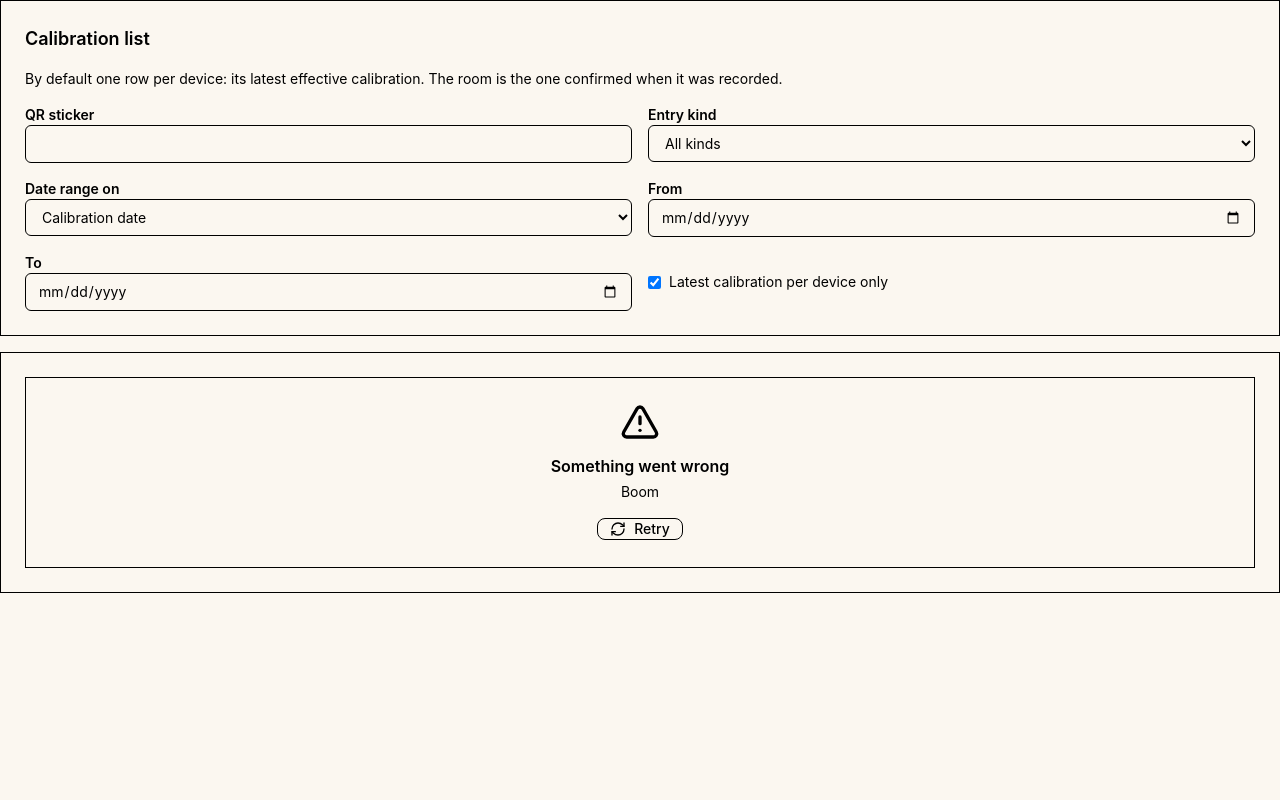
Test: P22-05 — calibration list › a failed read is an error with a retry, never an empty list
Expected: the message shows "Something went wrong", [551,456,729,476]
What coordinates should you click on to do the following:
click the button "Retry"
I would click on:
 (640, 529)
Its box is [597,518,683,540].
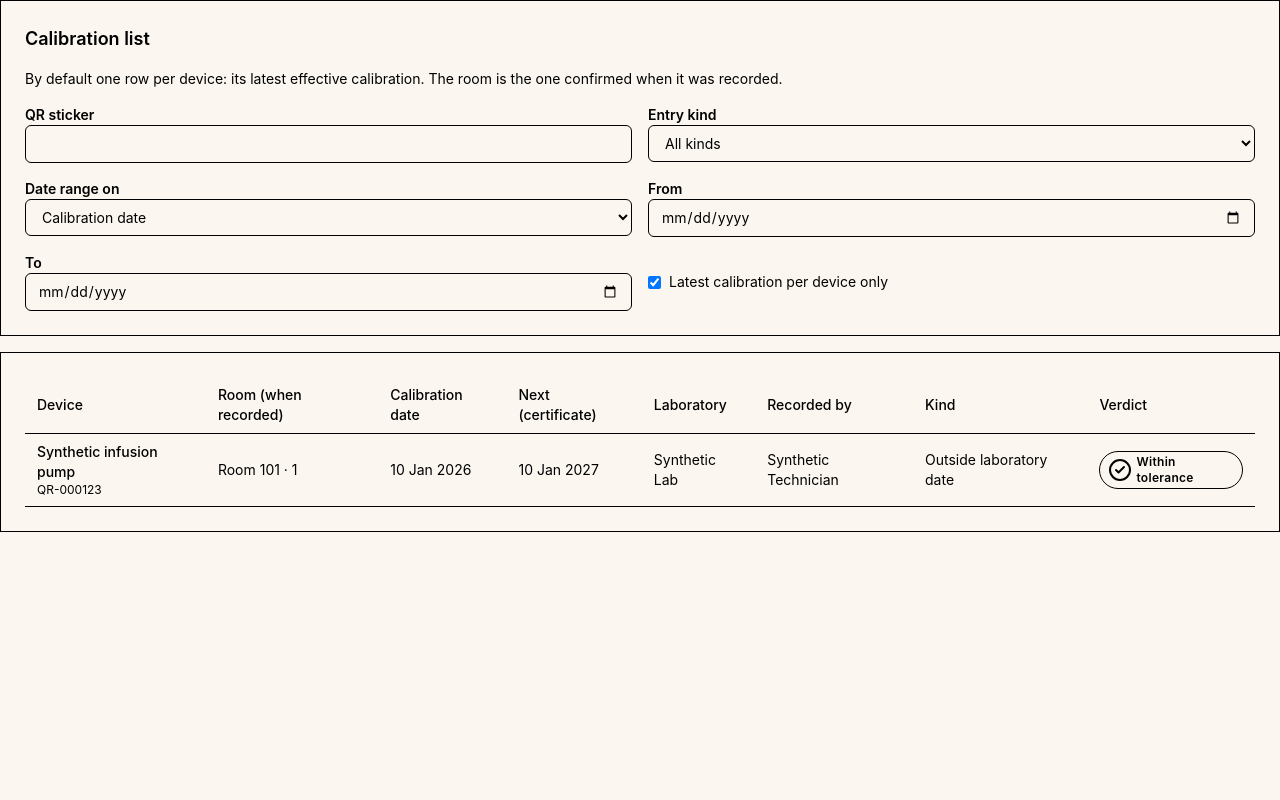
Now the table is shown, box [25,377,1255,507]
